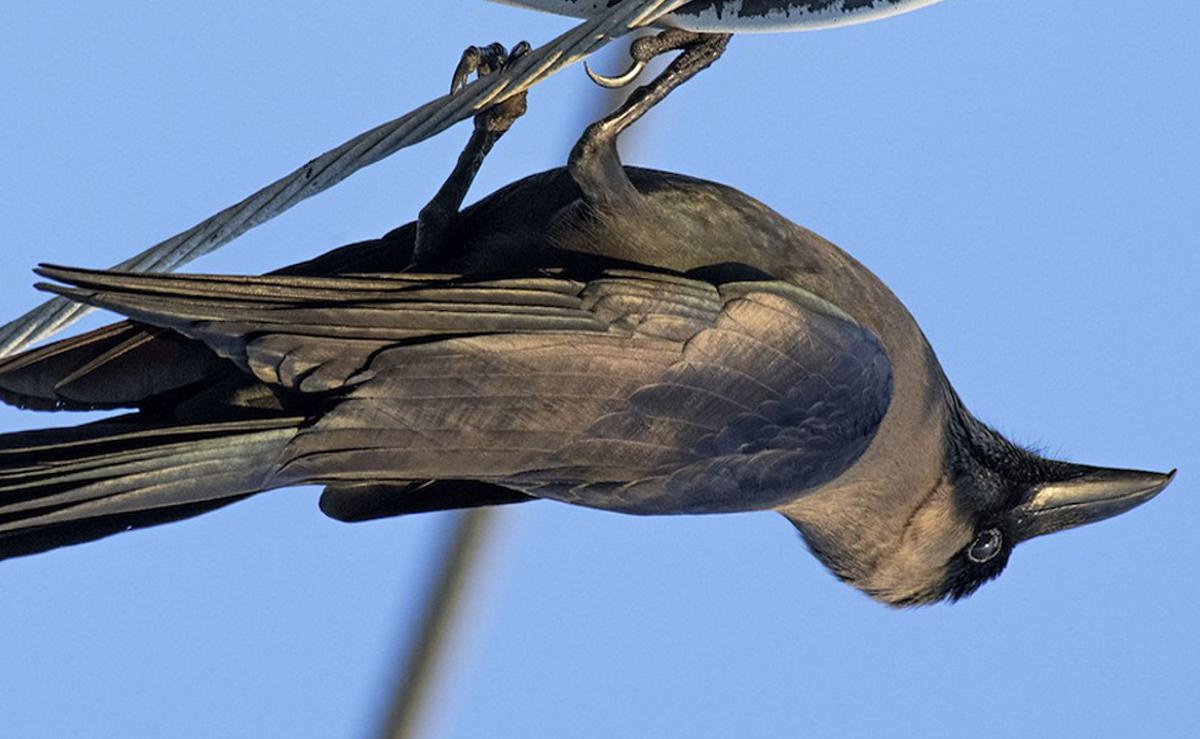crow: (11, 26, 1200, 641)
